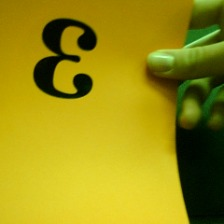orange3: (31, 14, 100, 105)
